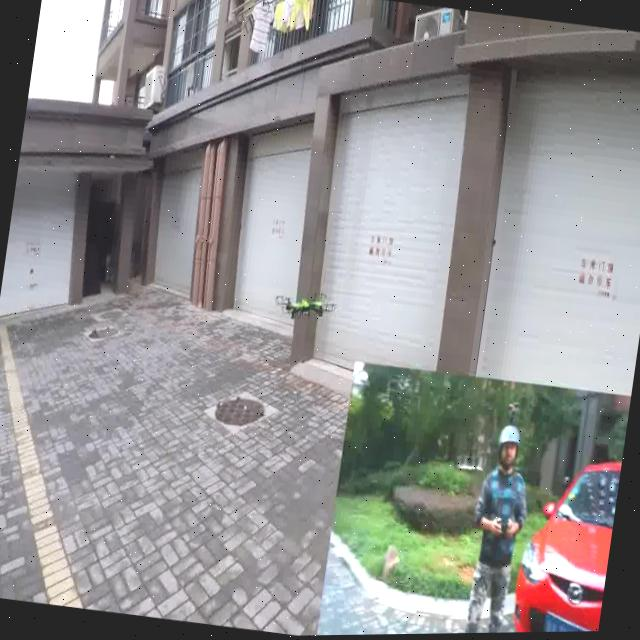drone: (249, 250, 356, 366)
